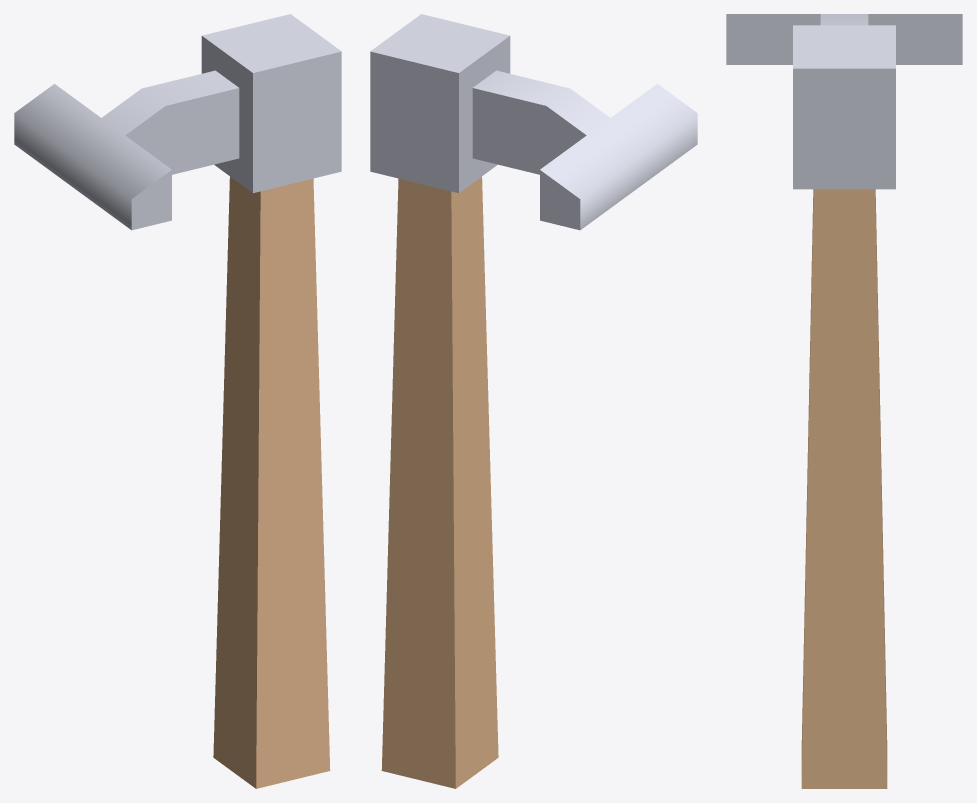
3 views of the same model, side by side, from view 1: azimuth 30°, elevation 25°; view 2: azimuth 150°, elevation 25°; view 3: azimuth 270°, elevation 25° (orthographic).
Parts seen in each view (by area): view 1: toolHoe; view 2: toolHoe; view 3: toolHoe.
Part boxes in pixels (x1,y1,x2,y2): toolHoe: [14, 14, 341, 788]; toolHoe: [370, 14, 697, 788]; toolHoe: [726, 14, 962, 788].
Bounding box in the file's own units: 0.0848 × 0.24 × 0.0709.
